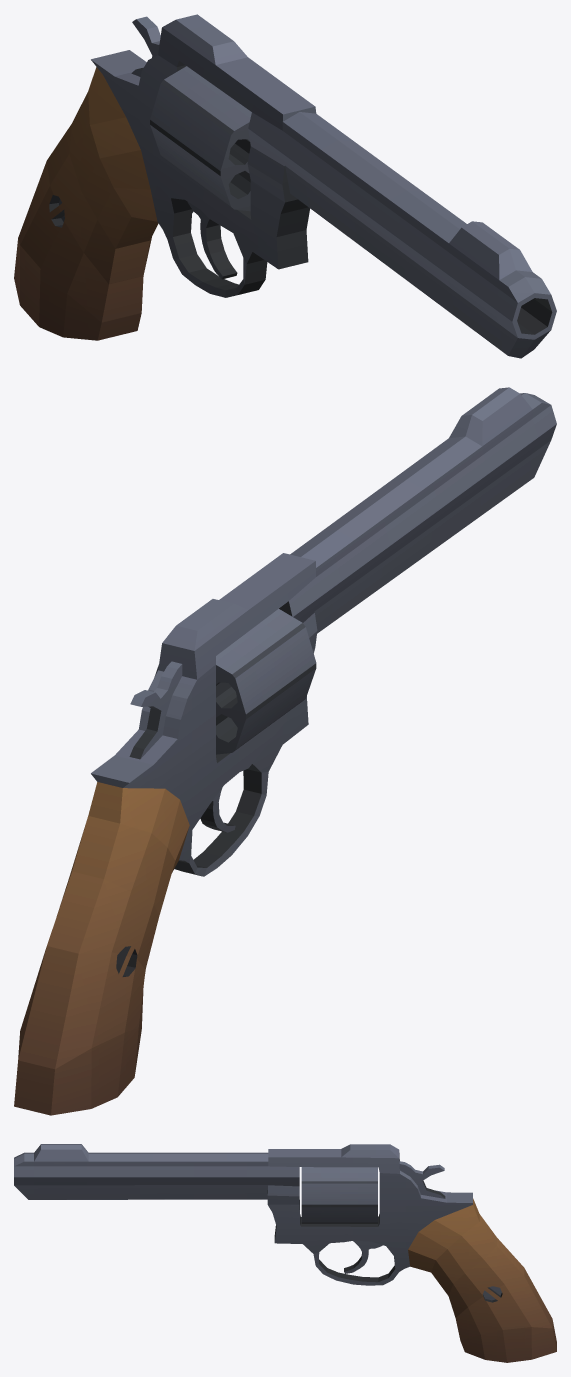
File: fbx-gun-revolver.fbx
3 renders of one model, top to bottom at view 1: azimuth 30°, elevation 25°; view 2: azimuth 150°, elevation 25°; view 3: azimuth 270°, elevation 25°, orthographic. The views are drawn at different scales.
Visible parts, largest first — view 1: mesh-gun-revolver; view 2: mesh-gun-revolver; view 3: mesh-gun-revolver.
Boxes of the visible parts, <box> form: mesh-gun-revolver: <box>14,14,556,358</box>; mesh-gun-revolver: <box>14,387,556,1115</box>; mesh-gun-revolver: <box>14,1144,556,1362</box>.
Size of the model in its own units: 0.1376 by 0.5251 by 1.24.
